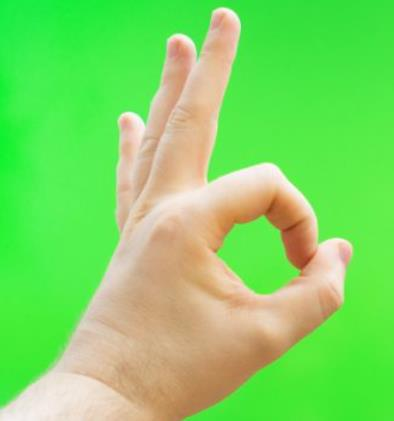left: (77, 6, 351, 380)
